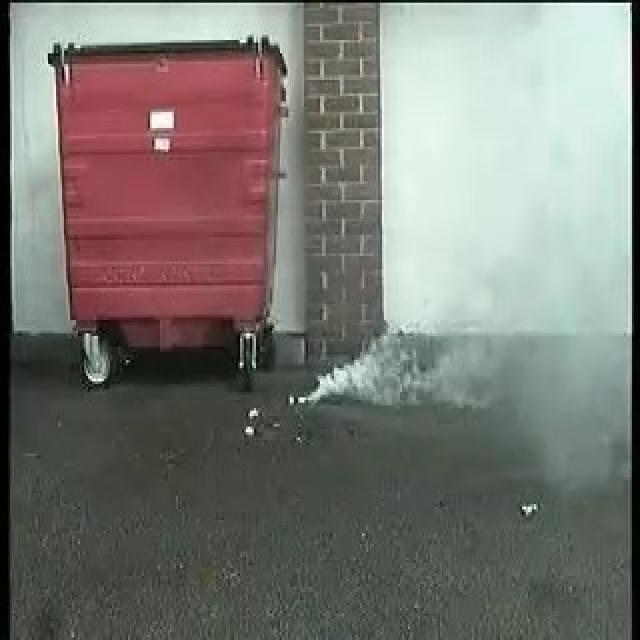smoke: (300, 276, 506, 416)
